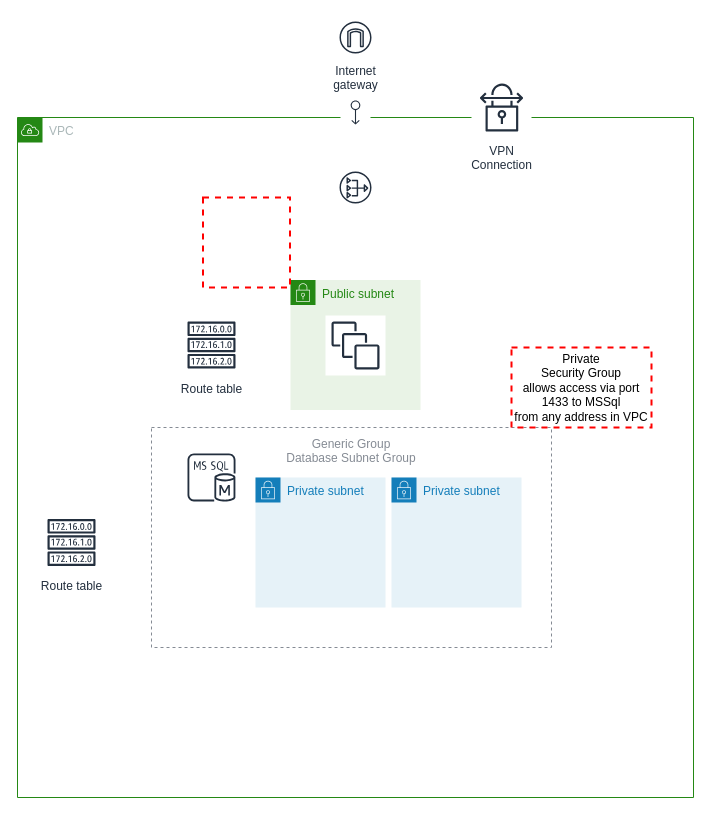
Image size: 711x815. Some labels were removed from this diagram. Here are the shapes that lost their labels. From the top down, the box of each, then its label:
(340, 96, 370, 128): Elastic IP Address
(334, 166, 376, 208): NAT gateway
(202, 196, 290, 288): Public Security Group allows RDP port 3389 to Public subnet from MyPC
(324, 314, 386, 376): Win 2019 instance
(180, 446, 242, 508): MS SQL instance
